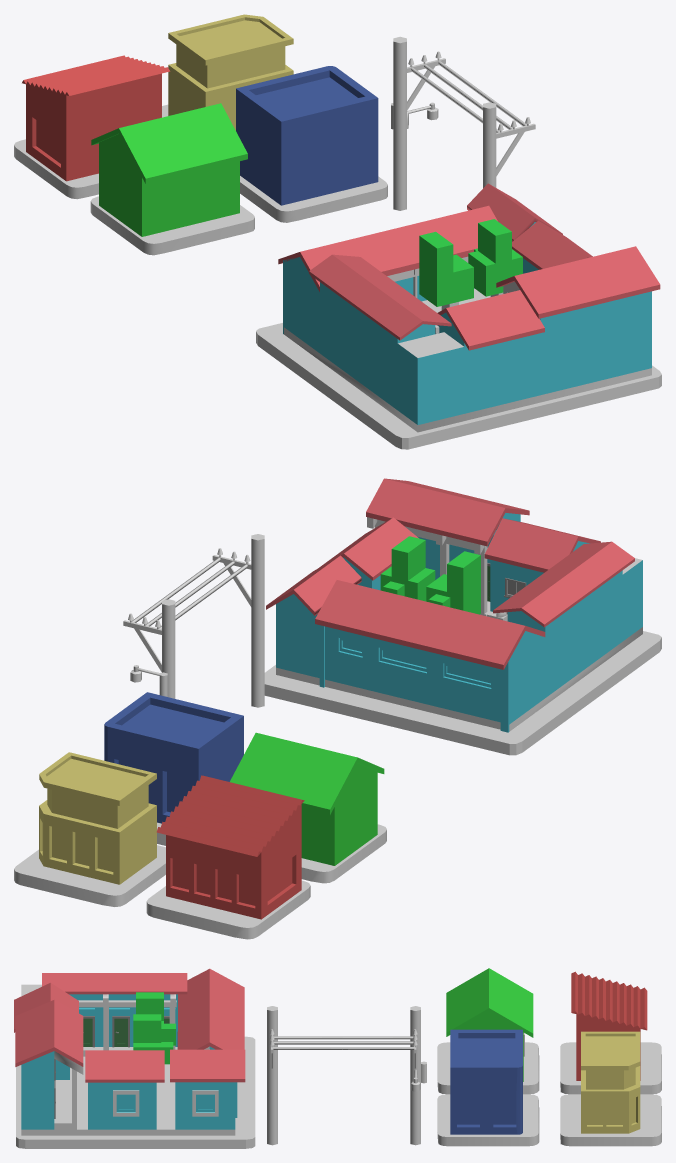
The model's file is ineb_m.fbx.
The picture shows the model from 3 angles, top to bottom: view 1: azimuth 30°, elevation 25°; view 2: azimuth 150°, elevation 25°; view 3: azimuth 270°, elevation 25°; orthographic projection. The views are drawn at different scales.
Parts seen in each view (by area): view 1: ineb_m; view 2: ineb_m; view 3: ineb_m.
Part boxes in pixels (bbox=[...]): ineb_m: bbox=[14, 14, 661, 449]; ineb_m: bbox=[14, 478, 661, 939]; ineb_m: bbox=[14, 968, 661, 1148].
Size of the model in its own units: 1337 by 738 by 3198.
